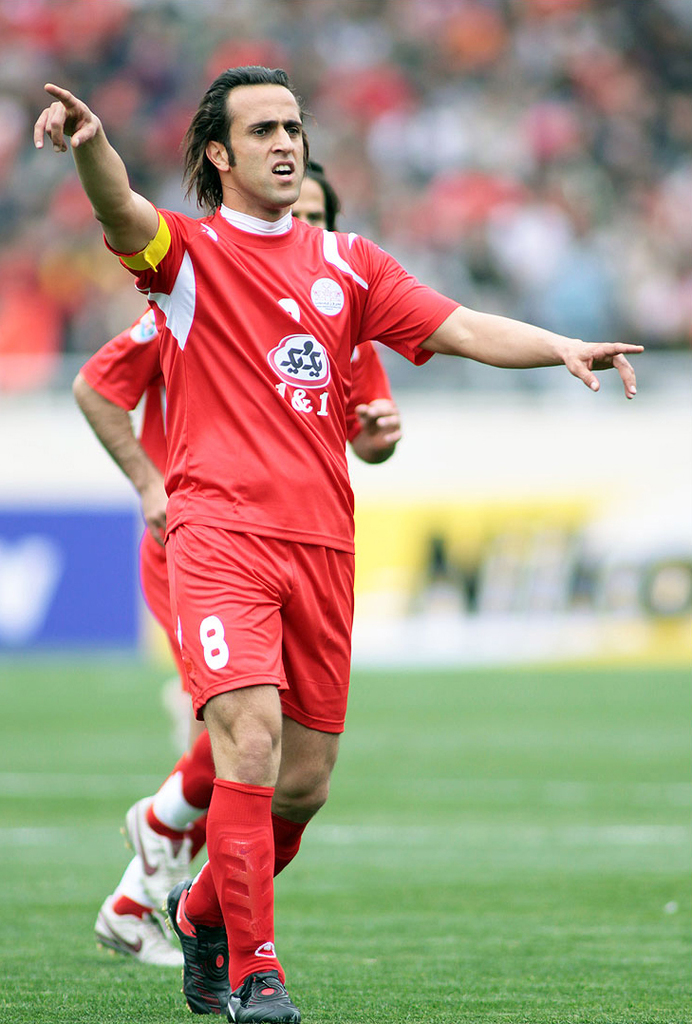Person: (32, 65, 645, 1024), (66, 159, 403, 967)
